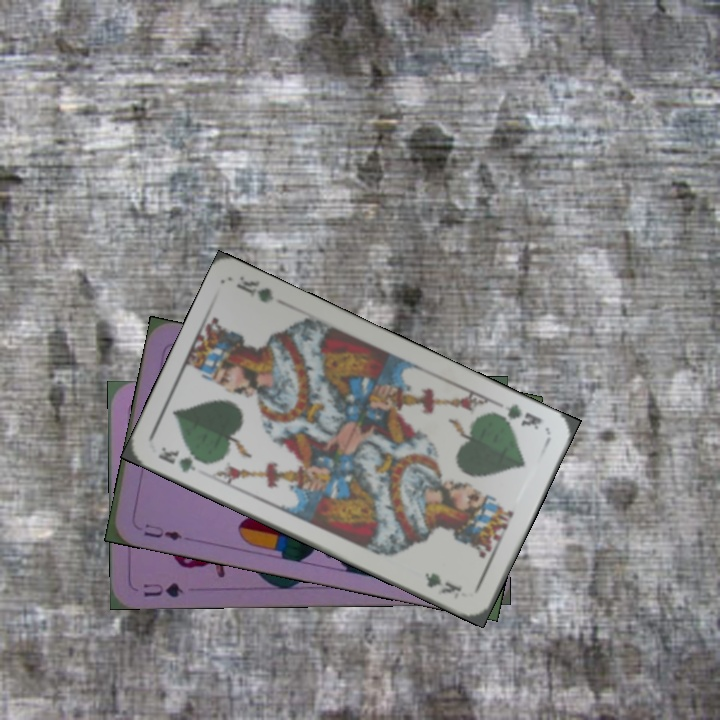EU: (139, 519, 185, 543)
GK: (490, 398, 545, 433), (154, 442, 210, 475)
GU: (140, 578, 186, 600)
